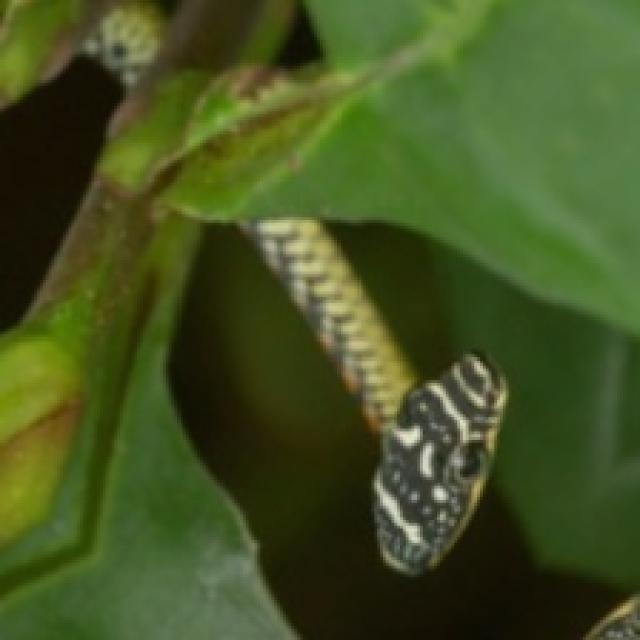paradise tree snake: (243, 217, 506, 574), (257, 217, 506, 571), (103, 0, 486, 217)
